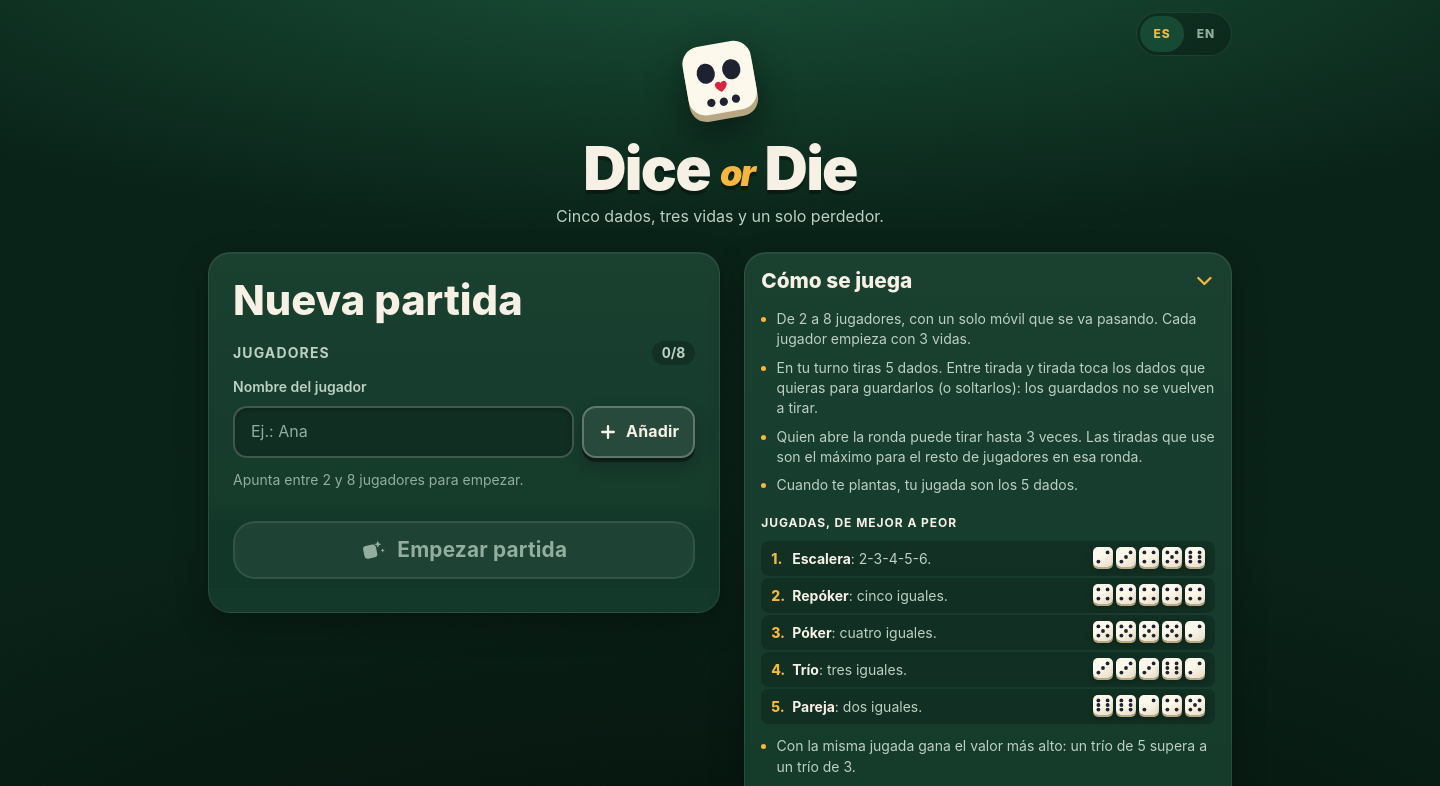
it: el selector cambia el idioma de toda la app y lo recuerda
Expected: the heading "Nueva partida" is shown, x1=233 y1=275 x2=523 y2=325
Click the button with aria-label "English" at (1206, 34), box x1=1184 y1=16 x2=1228 y2=52
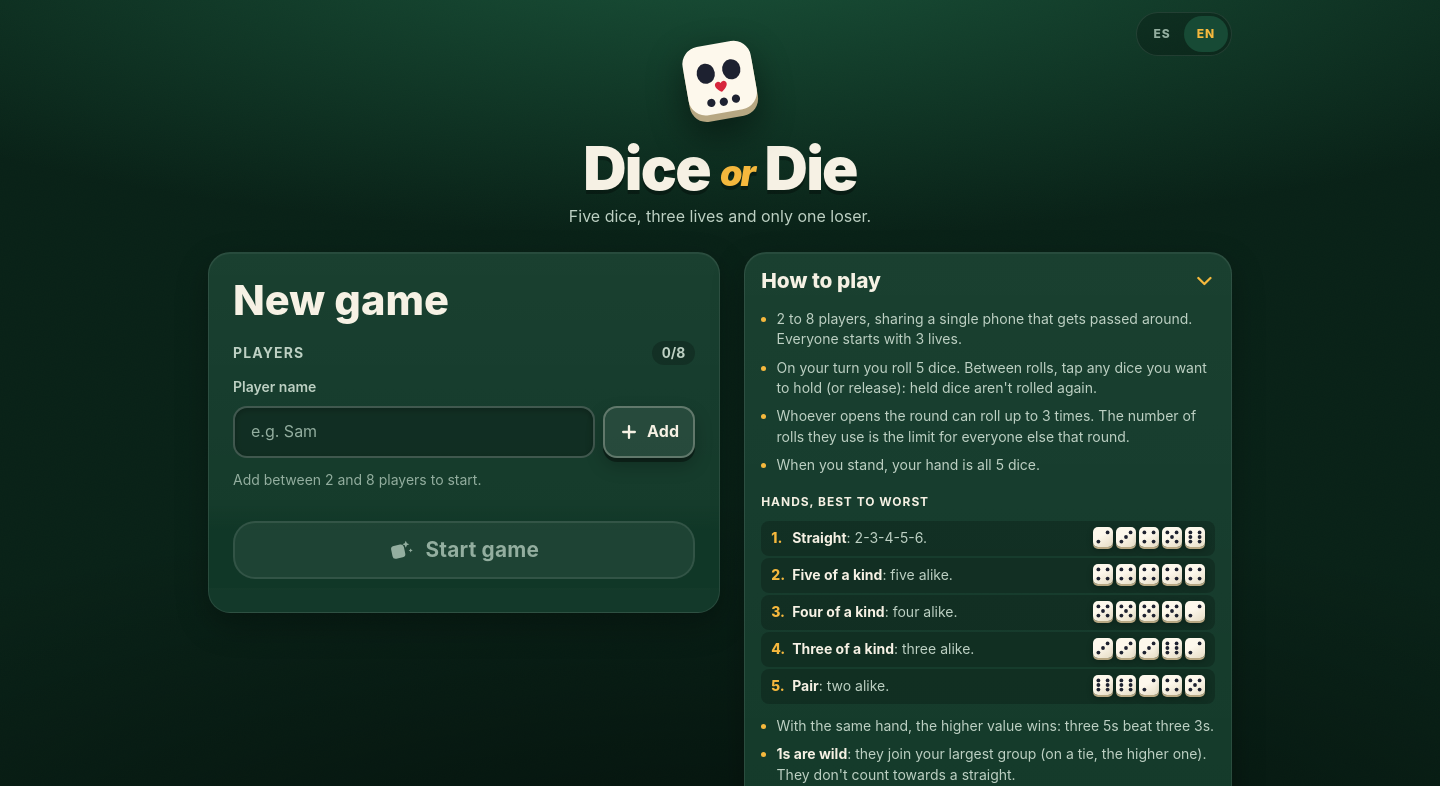
Expected: the button "Start game" is disabled, x1=233 y1=521 x2=695 y2=579
Expected: the heading "New game" is shown, x1=233 y1=275 x2=449 y2=325
